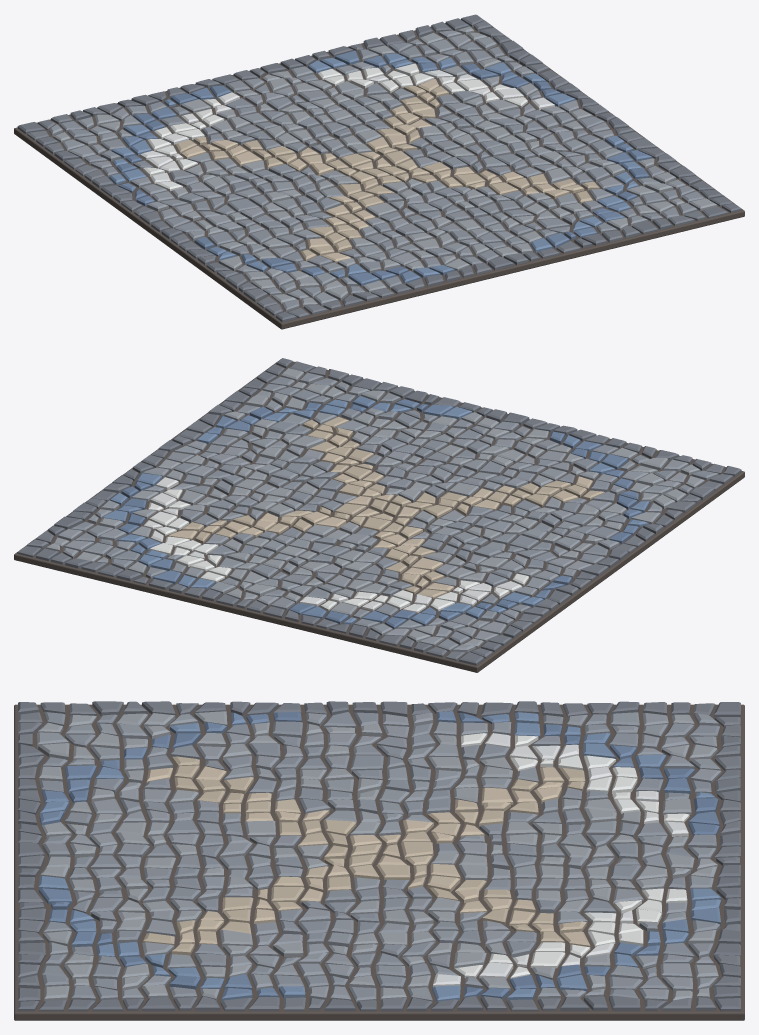
Rendered from mosaic_b.glb.
The picture shows the model from 3 angles, top to bottom: view 1: azimuth 30°, elevation 25°; view 2: azimuth 150°, elevation 25°; view 3: azimuth 270°, elevation 25°; orthographic projection. The views are drawn at different scales.
Visible parts, largest first — view 1: model; view 2: model; view 3: model.
Part boxes in pixels (<box>): model: <box>14,14,744,329</box>; model: <box>14,358,744,672</box>; model: <box>14,701,744,1020</box>.
Bounding box in the file's own units: 1.99 × 0.0424 × 1.99.
